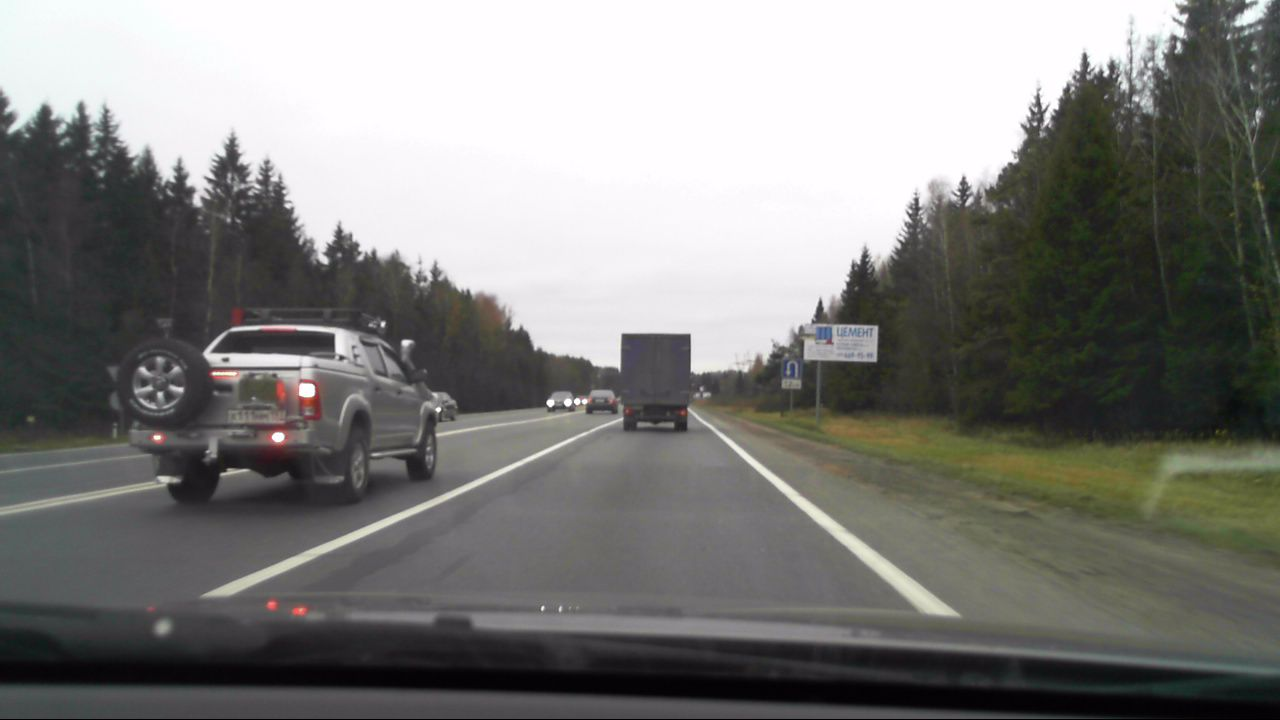U-turn: (783, 359, 800, 379)
